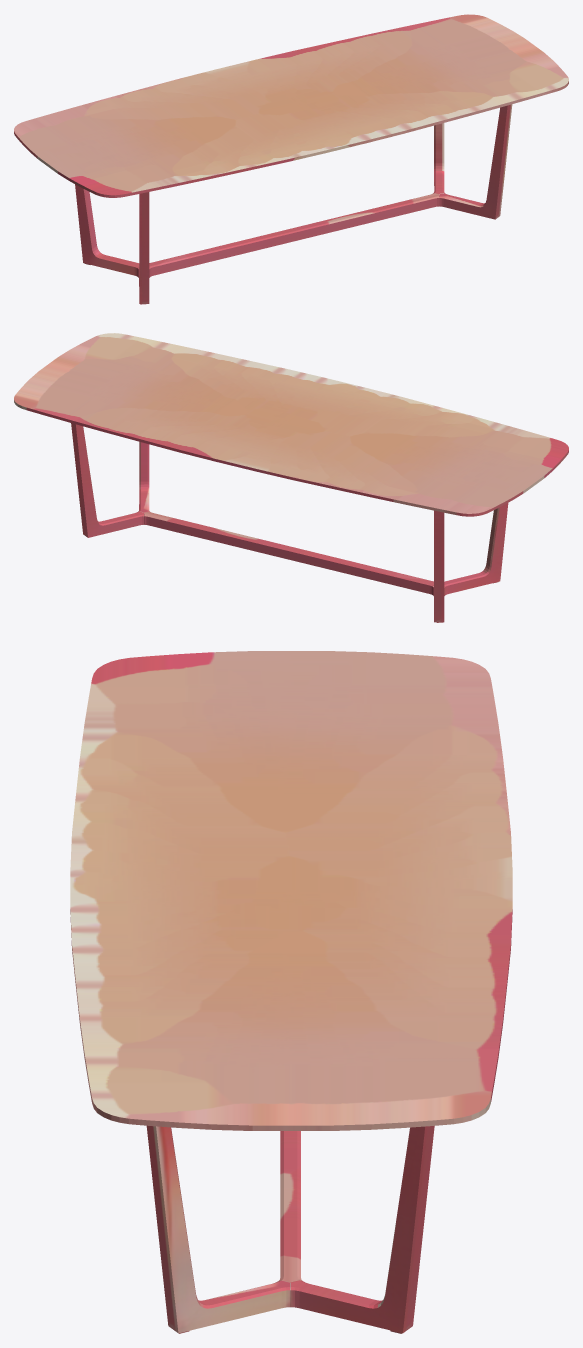
Rendered from edited_mesh.glb.
3 renders of one model, top to bottom at view 1: azimuth 30°, elevation 25°; view 2: azimuth 150°, elevation 25°; view 3: azimuth 270°, elevation 25°, orthographic. The views are drawn at different scales.
Parts seen in each view (by area): view 1: normalized_model.obj; view 2: normalized_model.obj; view 3: normalized_model.obj.
Part boxes in pixels (x1=…): normalized_model.obj: x1=14, y1=14, x2=568, y2=304; normalized_model.obj: x1=14, y1=333, x2=568, y2=622; normalized_model.obj: x1=70, y1=651, x2=512, y2=1333.
Bounding box in the file's own units: 2 × 0.5321 × 0.7873.
Materials: 1 (1 with a texture image).
